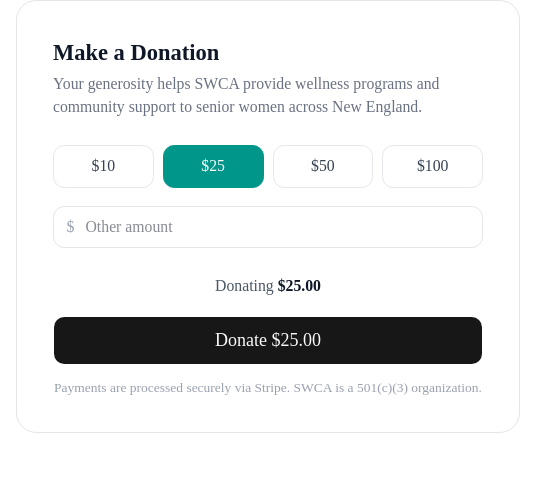
Test case: DonationForm › shows error message on API failure
The width and height of the screenshot is (537, 486).
Click the button "Donate $25.00": point(268, 340) x1=53 y1=316 x2=483 y2=365
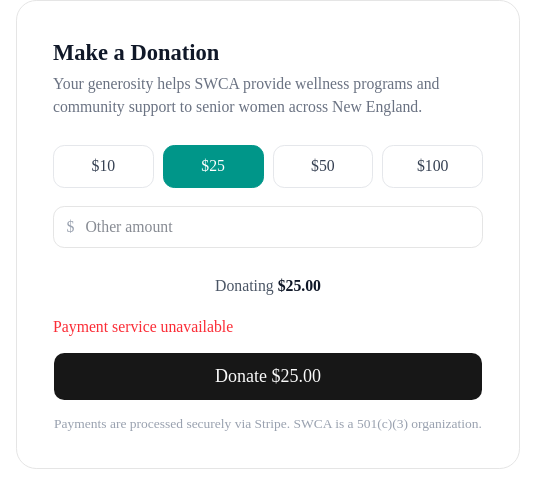
Now the text "Payment service unavailable" is shown, box x1=53 y1=318 x2=233 y2=334
